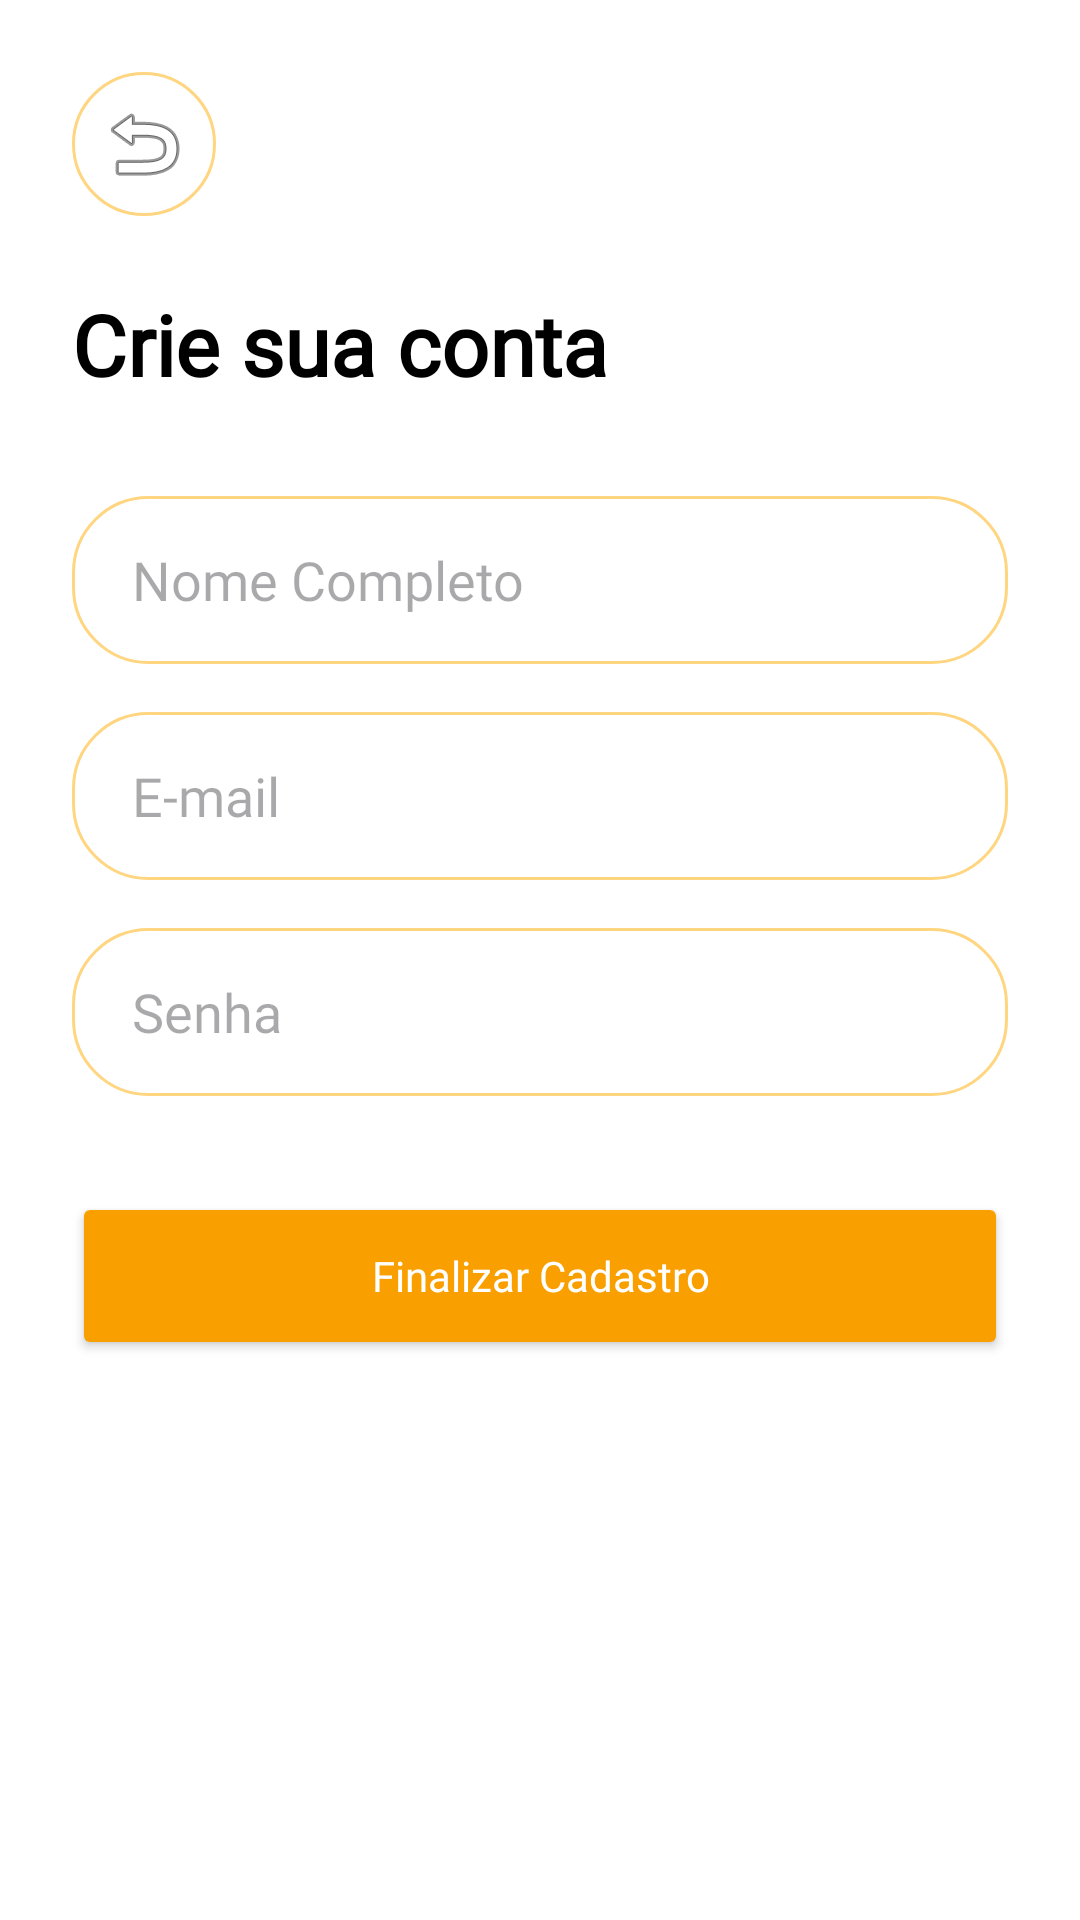

Locate icon controls on the screen. Image size 1080x1920, boxes as (x1, y1, x2, y2).
revert: (72, 72, 216, 216)
